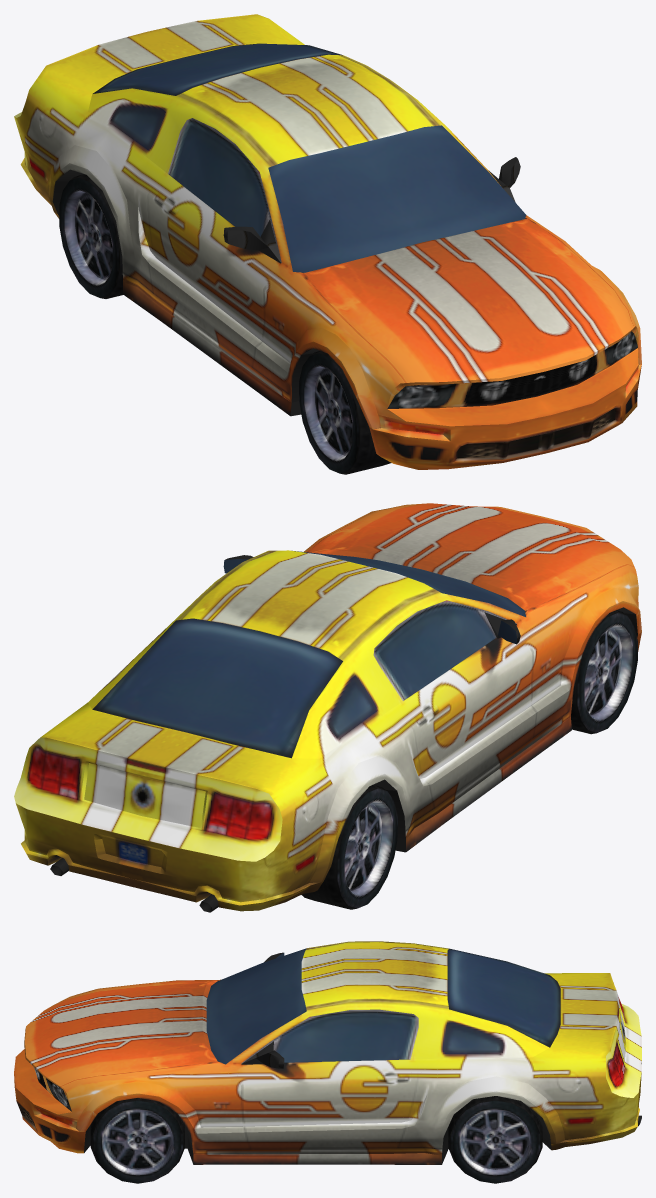
File: Ford Mustang yellow without spoiler.fbx
3 views of the same model, one above another, from view 1: azimuth 30°, elevation 25°; view 2: azimuth 150°, elevation 25°; view 3: azimuth 270°, elevation 25° (orthographic). The views are drawn at different scales.
Parts seen in each view (by area): view 1: mustang, FR, RR; view 2: mustang, RR, FR; view 3: mustang, RL, FL.
Boxes of the visible parts, x1,y1,x2,y2 form: mustang: (14, 14, 641, 469); FR: (299, 351, 391, 474); RR: (59, 174, 123, 298); mustang: (14, 503, 641, 912); RR: (301, 784, 397, 909); FR: (571, 610, 637, 734); mustang: (14, 941, 641, 1164); RL: (448, 1096, 542, 1183); FL: (90, 1098, 184, 1183).
Size of the model in its own units: 180 by 133 by 447.
